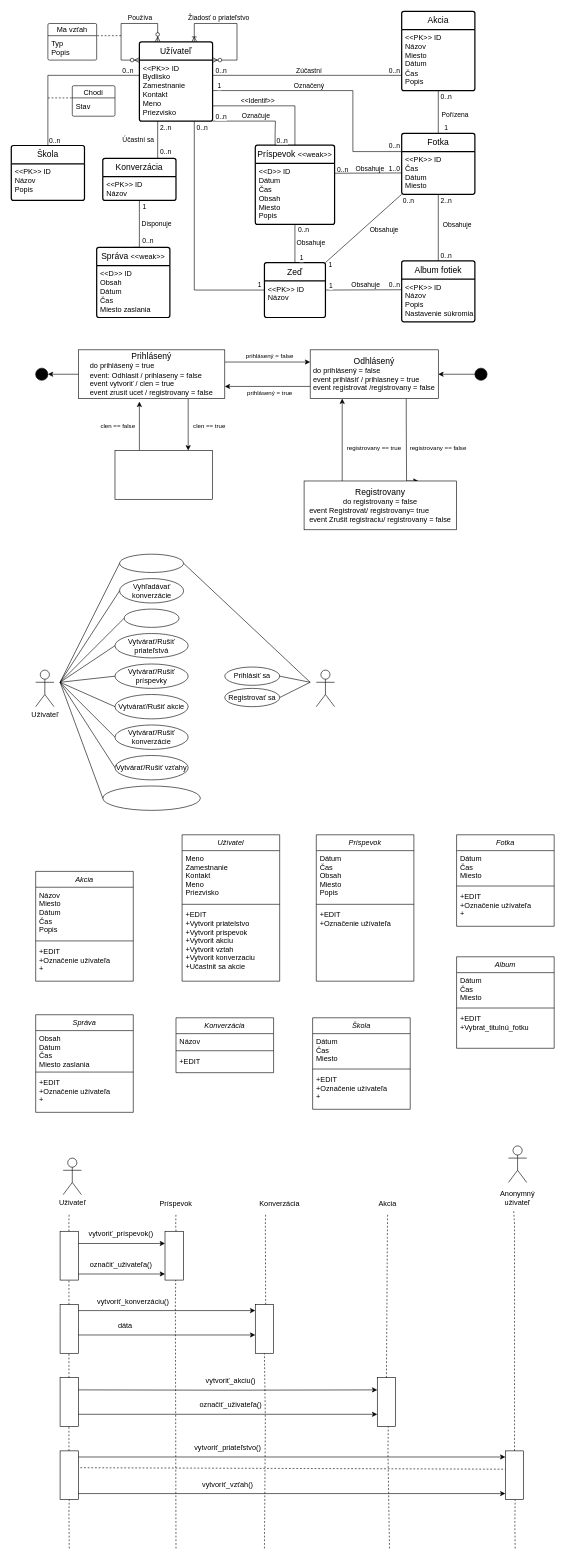
Some shapes in this 565 by 1560 pixel diagram are drawn without their labels. Here are the shapes that lost their labels. From the top down, the centre of each, then its label:
(163,474): Clen konverzace do clen = true event: Odhlasit / clen = false
(151,563): Vyhľadávať ľudí
(151,617): Odhlásiť sa
(325,688): Anonymný užívateľ
(151,797): Označiť/Zrušiť označenie užívateľa
